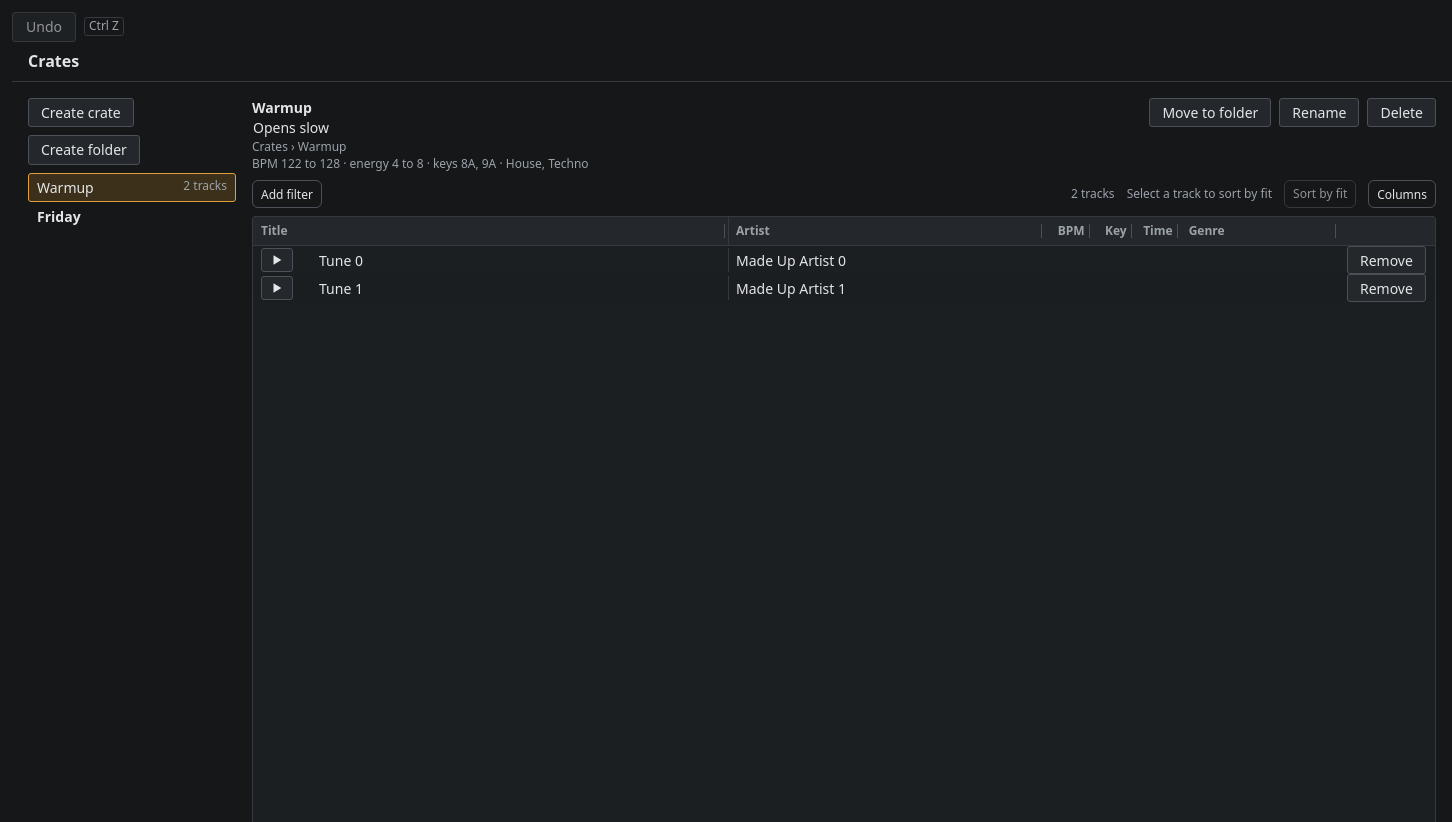
it: a crate's note › says why a save was refused, and keeps the note it had
This screenshot has width=1452, height=822.
Click the button "Opens slow".
click(291, 128)  # box 252,117 -> 330,139
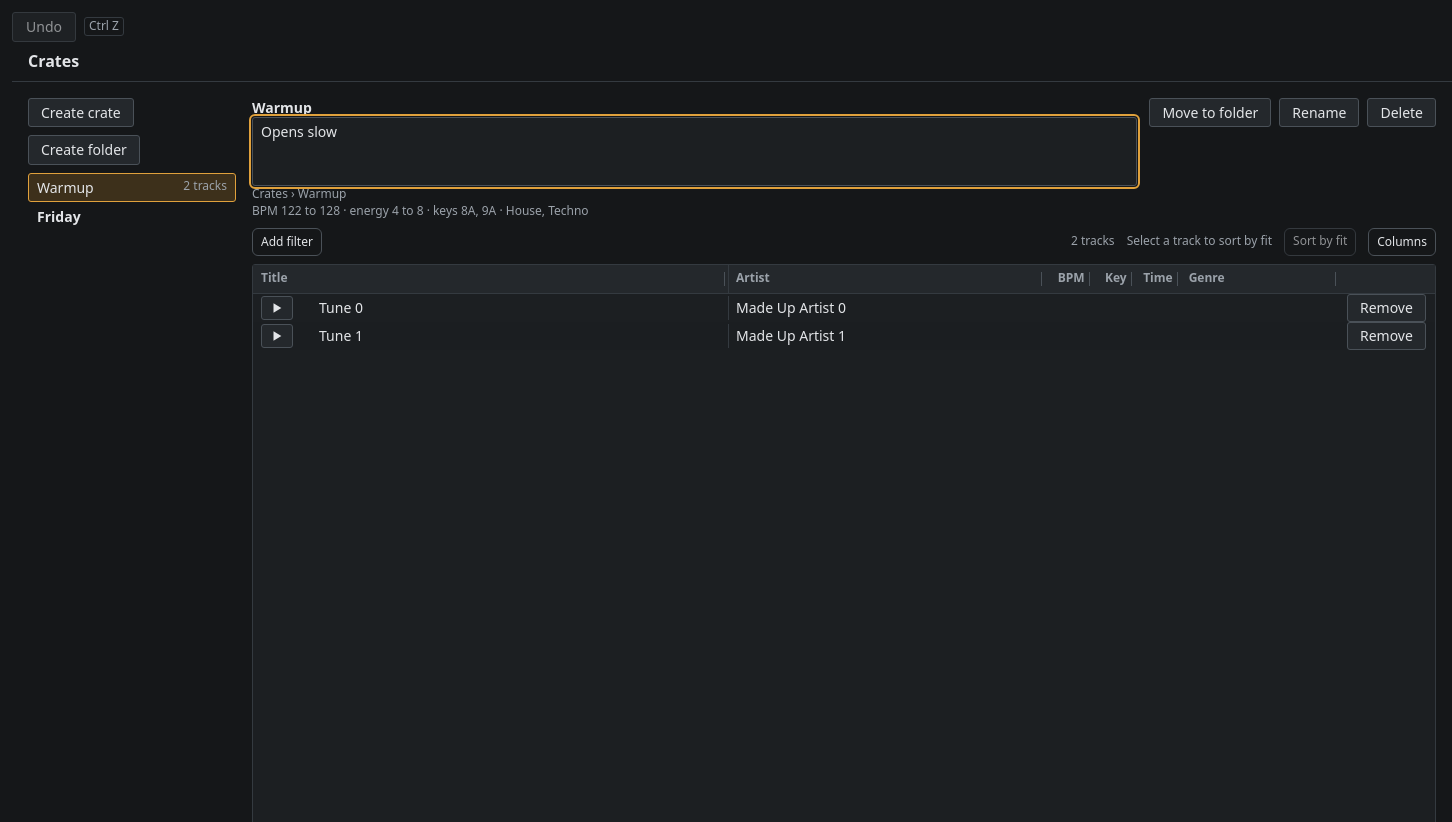
Replace the text in the text box named "Note" with "Changed" at {"x": 695, "y": 152}, box 252,117 -> 1137,186
Then press Enter
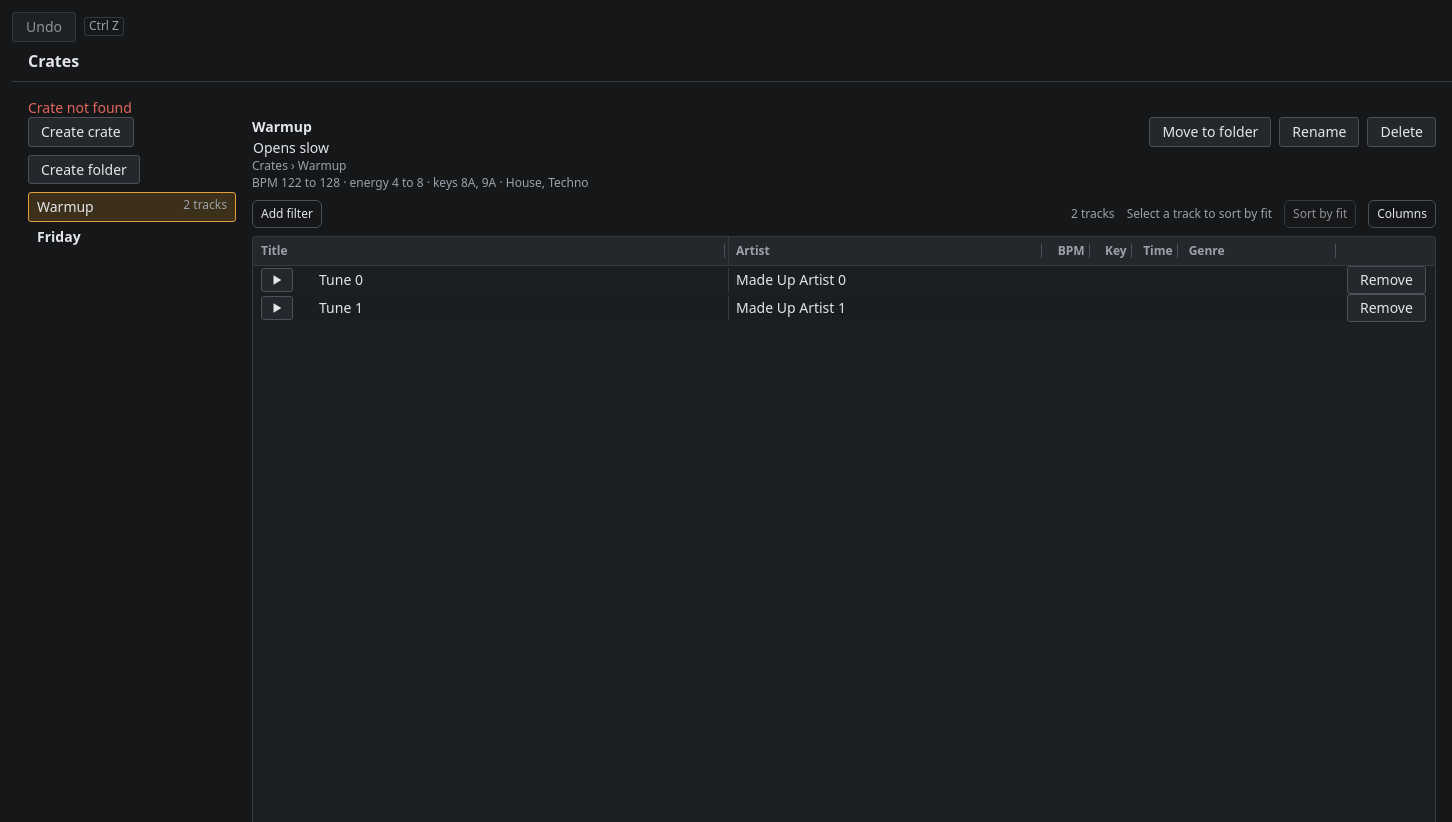
Expected: the message "Crate not found" is shown, 28,98 -> 132,117
Expected: the button "Opens slow" is shown, 252,137 -> 330,158
